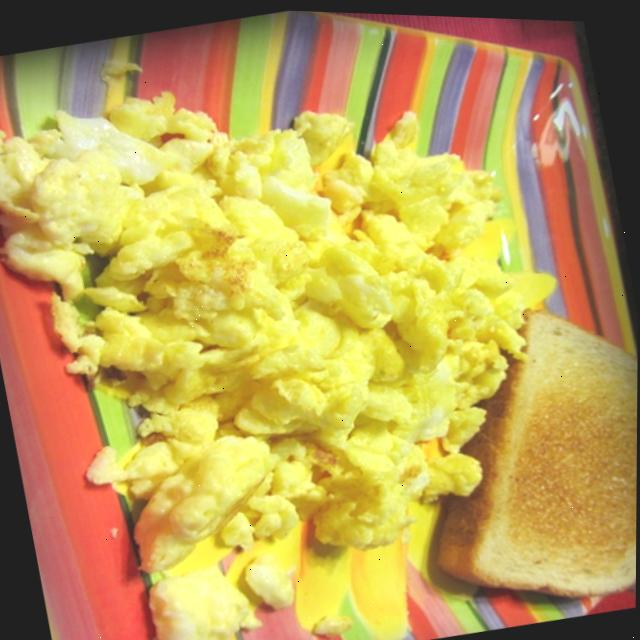鸡蛋料理: (0, 7, 640, 640)
